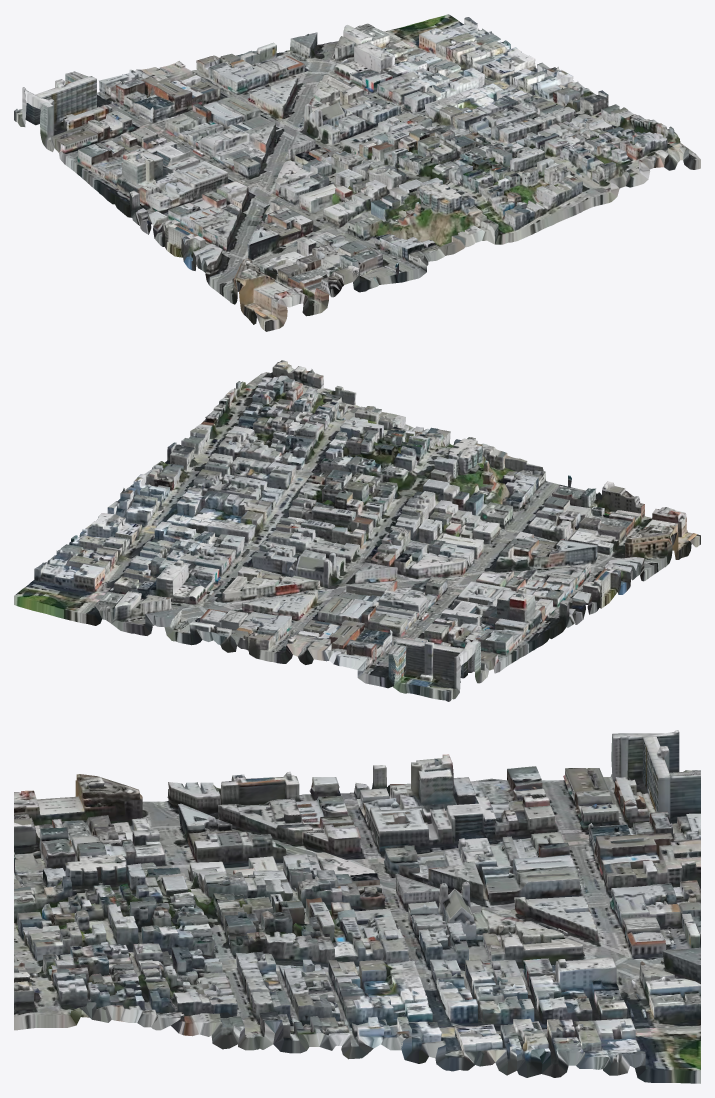
File: z16-10484-25325-h0-yup-uvflip-v3-world.glb
3 renders of one model, top to bottom at view 1: azimuth 30°, elevation 25°; view 2: azimuth 150°, elevation 25°; view 3: azimuth 270°, elevation 25°, orthographic. The views are drawn at different scales.
Bounding box in the file's own units: 483 × 89.6 × 485.
1 material, 1 textured.
